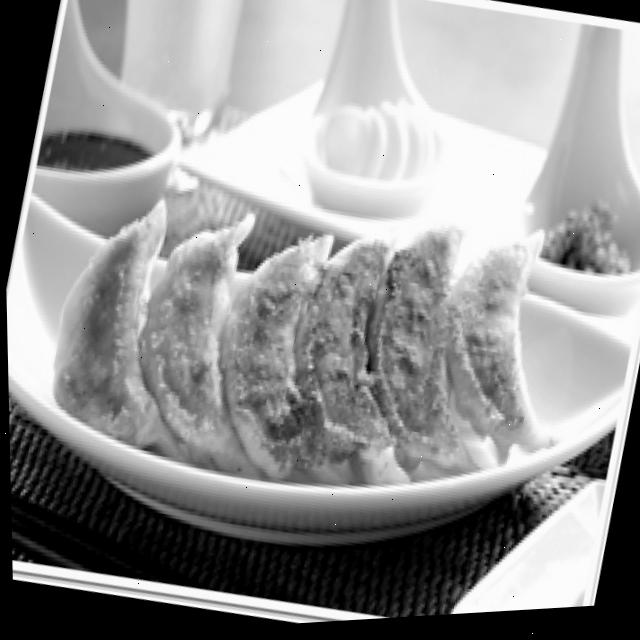带馅早点: (23, 150, 593, 559)
